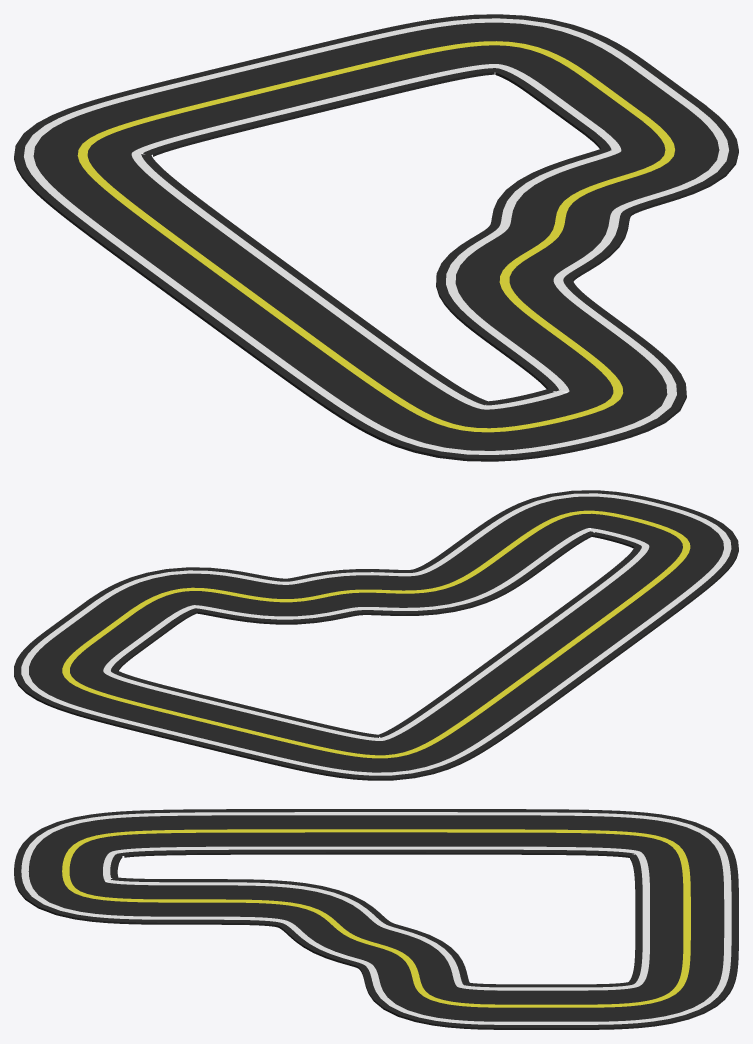
Rendered from raceTrack.glb.
3 renders of one model, top to bottom at view 1: azimuth 30°, elevation 25°; view 2: azimuth 150°, elevation 25°; view 3: azimuth 270°, elevation 25°, orthographic. The views are drawn at different scales.
Parts seen in each view (by area): view 1: Cube; view 2: Cube; view 3: Cube.
Boxes of the visible parts, x1,y1,x2,y2 form: Cube: [14, 14, 738, 461]; Cube: [14, 490, 738, 780]; Cube: [14, 809, 738, 1029].
Size of the model in its own units: 25.01 by 0.1 by 34.97.
